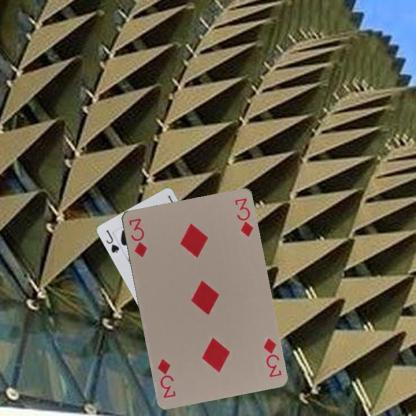3d: (260, 335, 283, 379), (126, 216, 148, 258)
Js: (103, 227, 121, 254)
